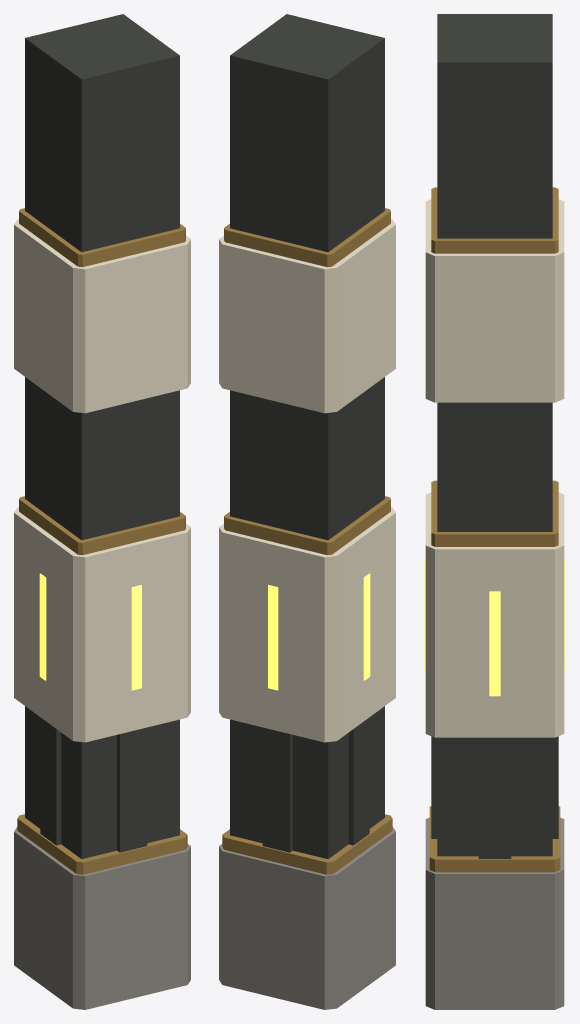
File: b4_column.glb
3 views of the same model, side by side, from view 1: azimuth 30°, elevation 25°; view 2: azimuth 150°, elevation 25°; view 3: azimuth 270°, elevation 25° (orthographic).
Visible parts, largest first — view 1: b4_column; view 2: b4_column; view 3: b4_column.
Part boxes in pixels (x1,y1,x2,y2): b4_column: (14, 14, 190, 1009); b4_column: (219, 14, 395, 1009); b4_column: (424, 14, 565, 1009).
Bounding box in the file's own units: 1.22 × 9 × 1.22.
